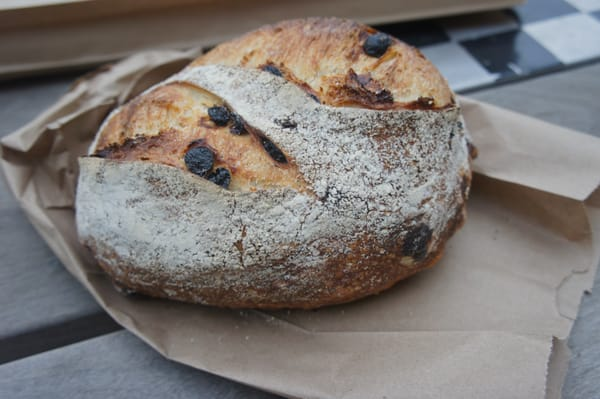sushi: (80, 16, 475, 311)
